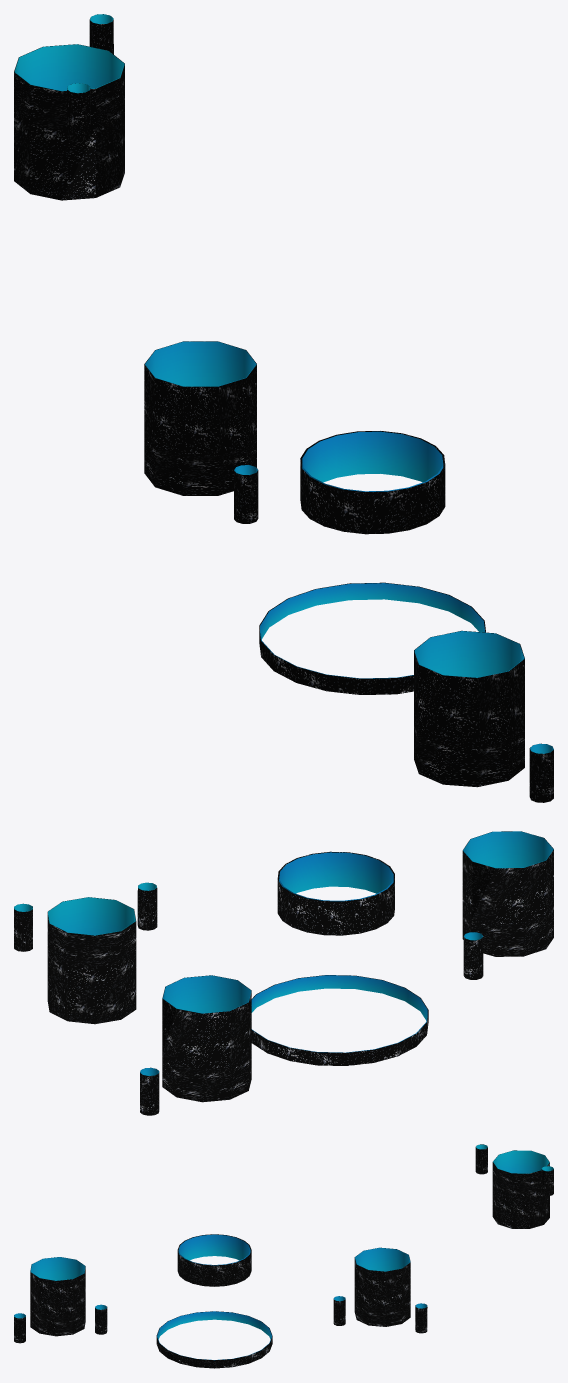
The model's file is stg610_MotTank_14.obj.
3 renders of one model, top to bottom at view 1: azimuth 30°, elevation 25°; view 2: azimuth 150°, elevation 25°; view 3: azimuth 270°, elevation 25°, orthographic. The views are drawn at different scales.
Visible parts, largest first — view 1: polygon0, polygon4, polygon2, polygon7, polygon6, polygon3, polygon5, polygon1; view 2: polygon2, polygon4, polygon0, polygon6, polygon7, polygon3, polygon1, polygon5; view 3: polygon4, polygon0, polygon2, polygon6, polygon7, polygon5, polygon1, polygon3.
Part boxes in pixels (bbox=[...]): polygon0: bbox=[414, 630, 553, 802]; polygon4: bbox=[144, 341, 258, 523]; polygon2: bbox=[14, 14, 124, 200]; polygon7: bbox=[260, 431, 485, 678]; polygon6: bbox=[259, 431, 485, 694]; polygon3: bbox=[14, 14, 124, 93]; polygon5: bbox=[145, 341, 257, 474]; polygon1: bbox=[414, 631, 553, 753]; polygon2: bbox=[14, 883, 157, 1024]; polygon4: bbox=[140, 975, 251, 1115]; polygon0: bbox=[462, 831, 553, 979]; polygon6: bbox=[251, 851, 428, 1065]; polygon7: bbox=[251, 852, 427, 1052]; polygon3: bbox=[14, 882, 156, 935]; polygon1: bbox=[463, 831, 553, 940]; polygon5: bbox=[140, 975, 251, 1075]; polygon4: bbox=[333, 1247, 427, 1333]; polygon0: bbox=[14, 1257, 107, 1343]; polygon2: bbox=[475, 1144, 553, 1228]; polygon6: bbox=[156, 1234, 272, 1368]; polygon7: bbox=[157, 1234, 271, 1360]; polygon5: bbox=[333, 1247, 427, 1308]; polygon1: bbox=[14, 1257, 106, 1318]; polygon3: bbox=[476, 1144, 553, 1173].
Size of the model in its own units: 209 by 368 by 938.
Materials: 2 (2 with a texture image).
